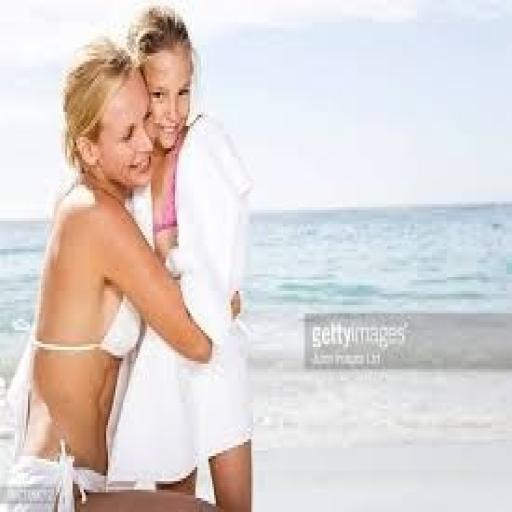hugging: (4, 6, 257, 509)
